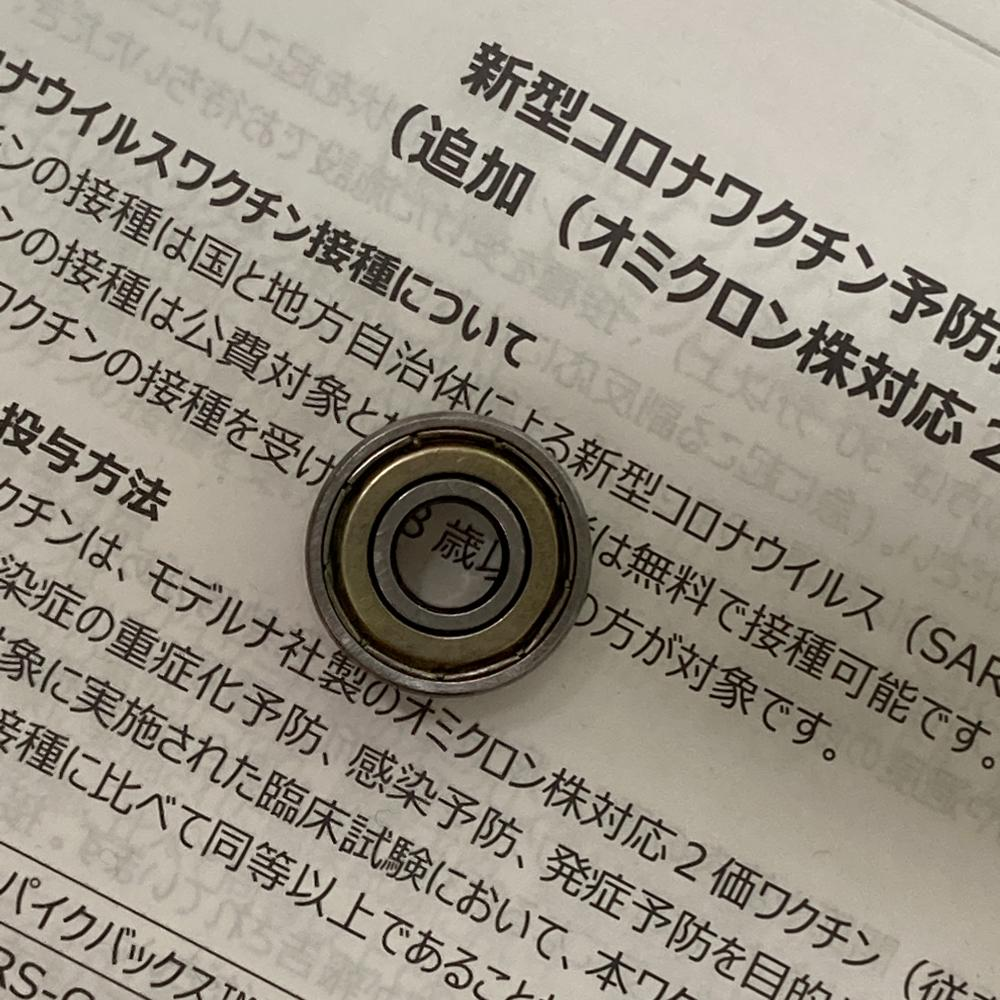ball_bearing: (302, 408, 595, 699)
